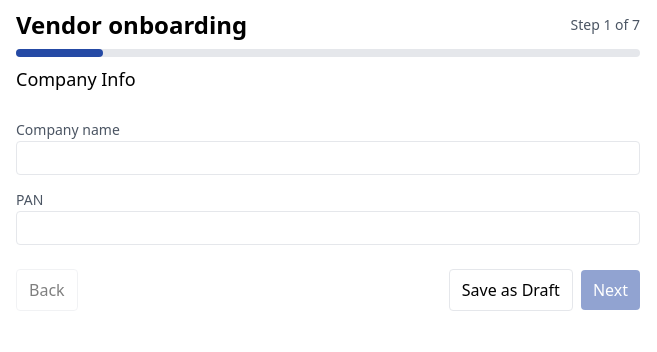
Scenario: SubmissionFormComponent › invalid PAN keeps Next disabled and shows an inline error
Type "Acme" into the field with test id "companyName-input" at {"x": 328, "y": 158}, box [16, 141, 640, 175]
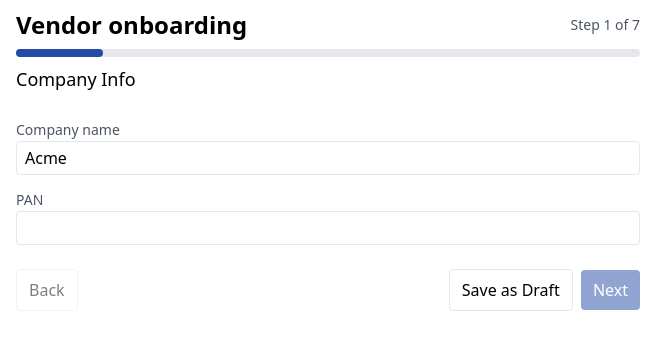
Type "INVALID" into the field with test id "panNumber-input" at {"x": 328, "y": 228}, box [16, 211, 640, 245]
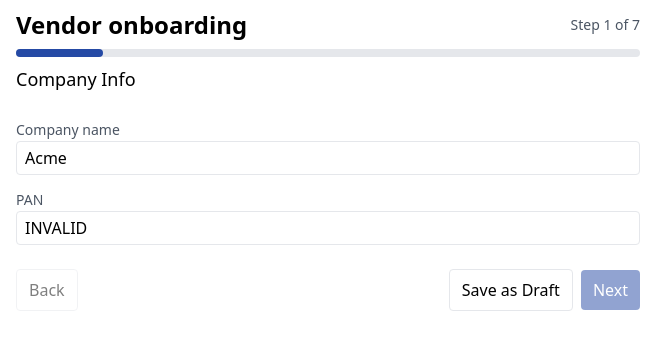
Leave the field with test id "panNumber-input", box [16, 211, 640, 245]
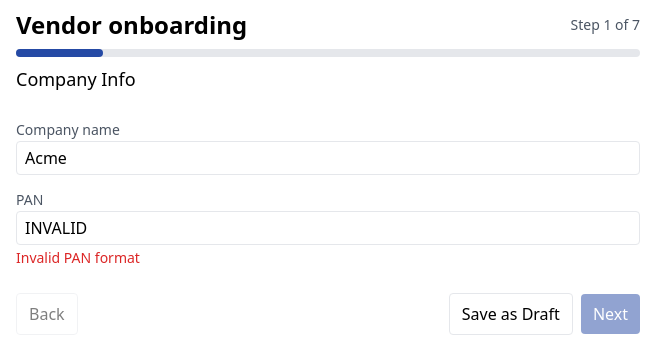
Expected: the button with test id "next-btn" is disabled, [581, 294, 640, 334]
Now the text with test id "panNumber-error" reads "Invalid PAN format", box [16, 248, 140, 267]
